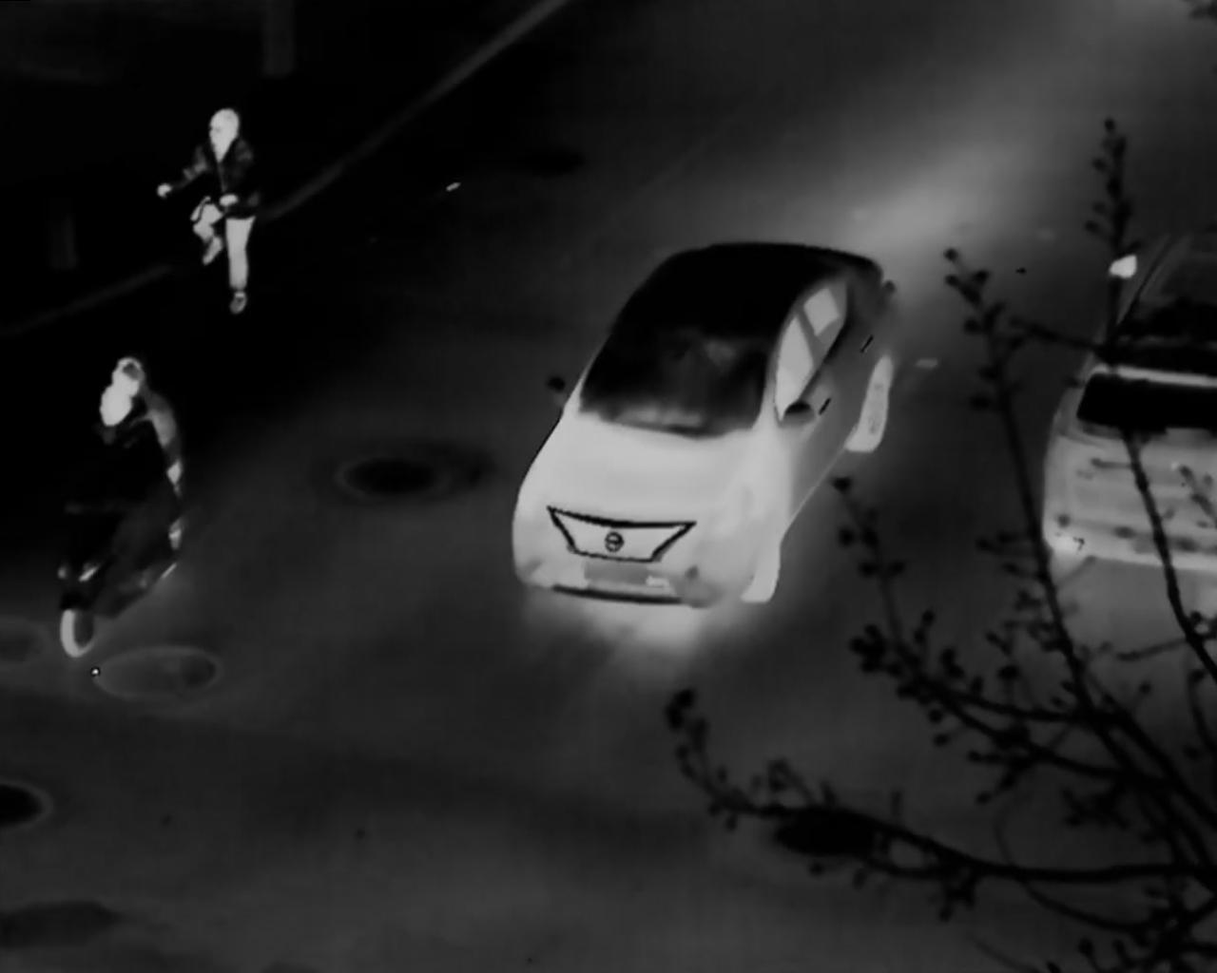person: (156, 109, 257, 312), (110, 353, 195, 541), (82, 386, 146, 440)
